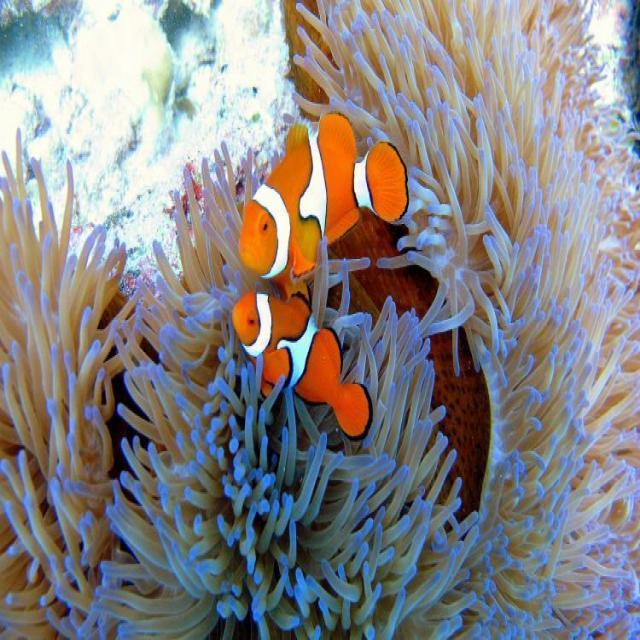ClownFish: (243, 117, 407, 277), (236, 289, 371, 437)
